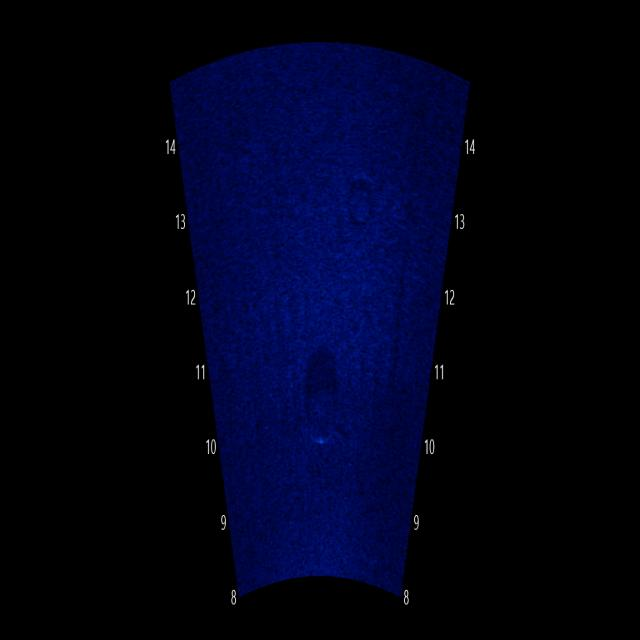circle: (295, 366, 345, 459)
